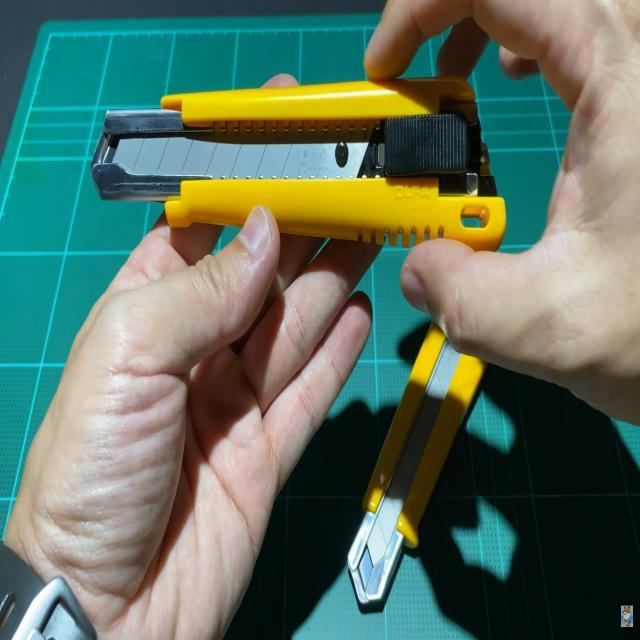cutter: (46, 41, 638, 618)
